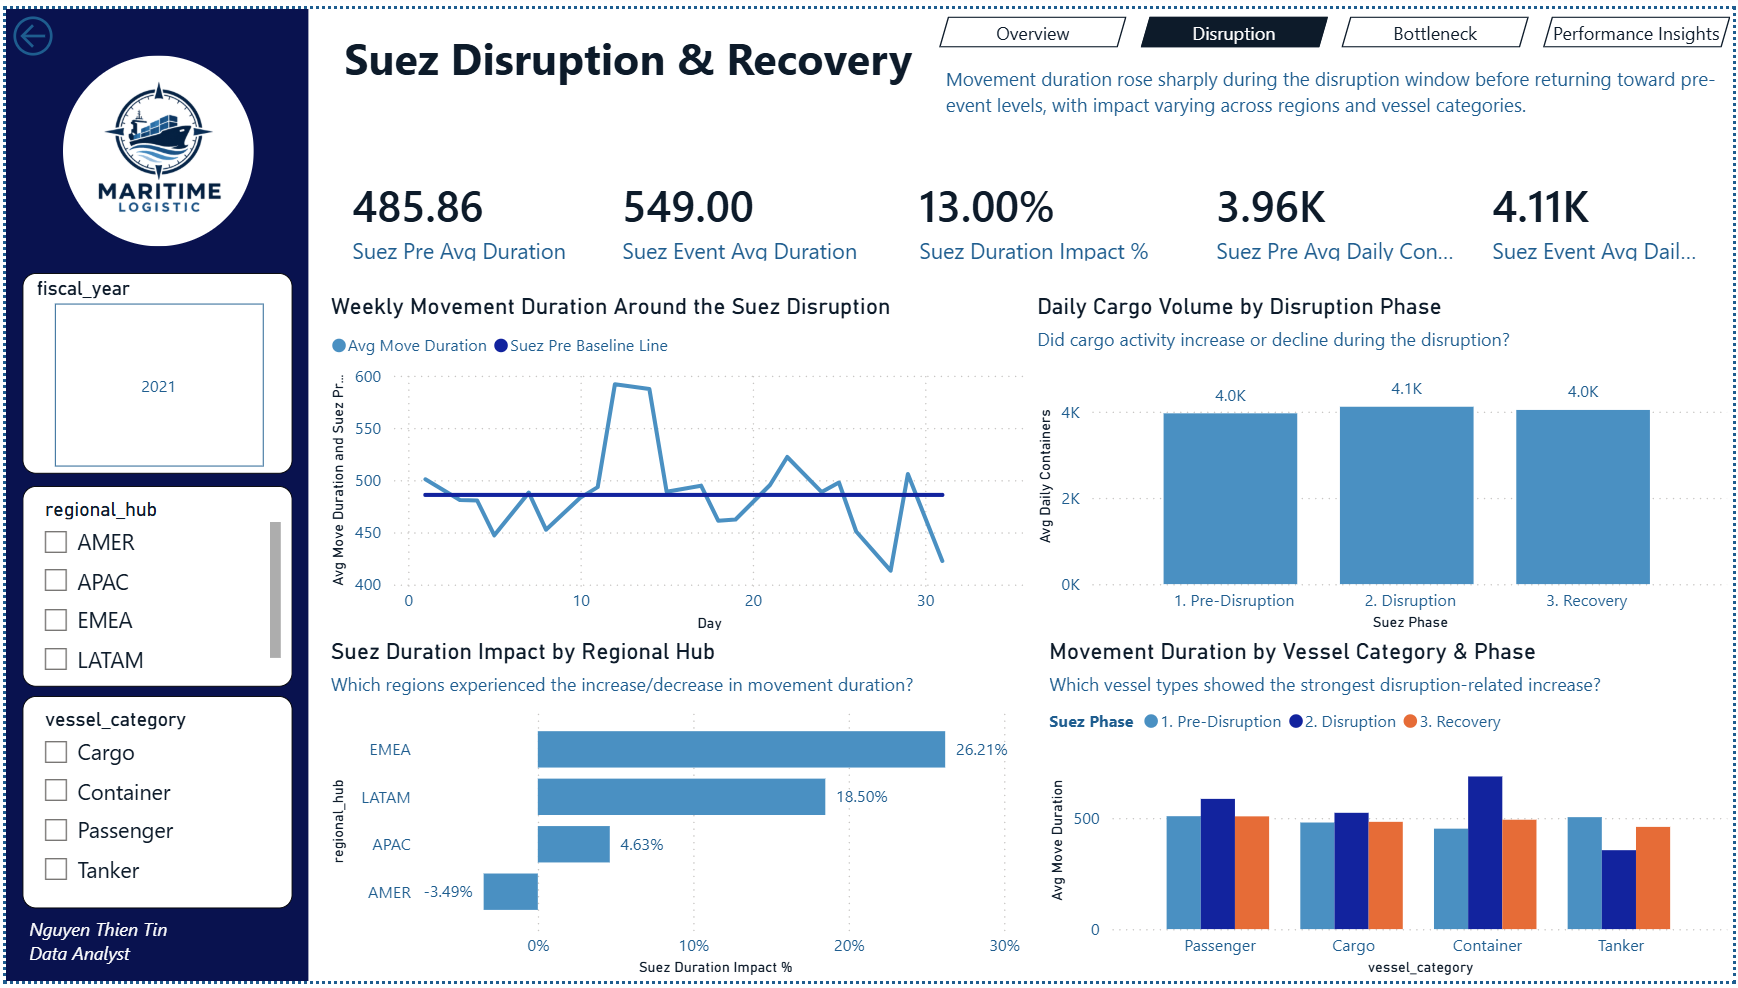

The page's visual inventory and layout, read from the dashboard file:
{"tool":"powerbi","page":{"name":"Disruption","canvas":[1280,720],"ordinal":1},"visuals":[{"type":"shape","title":"BG1","box":[0,0,224.3,720],"z":0},{"type":"cardVisual","fields":{"Data":["_Measures.Suez Duration Impact %"]},"box":[655,115,220,80],"z":1000},{"type":"cardVisual","fields":{"Data":["_Measures.Suez Pre Avg Duration"]},"box":[235,115,200,80],"z":2000},{"type":"cardVisual","fields":{"Data":["_Measures.Suez Event Avg Duration"]},"box":[435,115,220,80],"z":3000},{"type":"cardVisual","fields":{"Data":["_Measures.Suez Pre Avg Daily Containers"]},"box":[875,115,220,80],"z":4000},{"type":"slicer","fields":{"Values":["dim_time.fiscal_year"]},"box":[12.5,195,200,148.8],"z":5000},{"type":"slicer","fields":{"Values":["dim_terminal.regional_hub"]},"box":[12.5,353.8,200,148.8],"z":6000},{"type":"slicer","fields":{"Values":["dim_vessel.vessel_category"]},"box":[12.5,508.8,200,157.5],"z":7000},{"type":"image","box":[42.2,34.4,141.1,141.1],"z":8000},{"type":"textbox","box":[245,8.8,432.5,56.2],"z":9000},{"type":"textbox","box":[12.5,666.2,156.2,53.8],"z":10000},{"type":"textbox","box":[691.2,36.2,588.8,48.8],"z":11000},{"type":"cardVisual","fields":{"Data":["_Measures.Suez Event Avg Daily Containers"]},"box":[1080,115,200,80],"z":12000},{"type":"lineChart","title":"Weekly Movement Duration Around the Suez Disruption","fields":{"Y":["_Measures.Avg Move Duration","_Measures.Suez Pre Baseline Line"],"Category":["dim_time.Week Start.Variation.Date Hierarchy.Day"]},"box":[235,210,523.8,255],"z":13000},{"type":"clusteredColumnChart","title":"Daily Cargo Volume by Disruption Phase","fields":{"Category":["dim_time.Suez Phase"],"Y":["_Measures.Avg Daily Containers"]},"box":[758.8,210,521.2,255],"z":14000},{"type":"actionButton","box":[0,0,100,40],"z":15000},{"type":"clusteredBarChart","title":"Suez Duration Impact by Regional Hub","fields":{"Category":["dim_terminal.regional_hub"],"Y":["_Measures.Suez Duration Impact %"]},"box":[235,465,523.8,255],"z":16000},{"type":"clusteredColumnChart","title":"Movement Duration by Vessel Category & Phase","fields":{"Category":["dim_vessel.vessel_category"],"Series":["dim_time.Suez Phase"],"Y":["_Measures.Avg Move Duration"]},"box":[767.5,465,512.5,255],"z":17000},{"type":"pageNavigator","box":[691.2,5,588.8,23.8],"z":18000}]}

Visuals, with their boxes in screenshot pixels (x1, y1, x2, y2), scaled from the page's 1280x720 canvas onto the 1738x988 screenshot:
"BG1" shape: (0, 0, 305, 987)
cardVisual - _Measures.Suez Duration Impact %: (889, 158, 1188, 268)
cardVisual - _Measures.Suez Pre Avg Duration: (319, 158, 591, 268)
cardVisual - _Measures.Suez Event Avg Duration: (591, 158, 889, 268)
cardVisual - _Measures.Suez Pre Avg Daily Containers: (1188, 158, 1487, 268)
slicer - dim_time.fiscal_year: (17, 268, 289, 472)
slicer - dim_terminal.regional_hub: (17, 485, 289, 690)
slicer - dim_vessel.vessel_category: (17, 698, 289, 914)
image: (57, 47, 249, 241)
textbox: (333, 12, 920, 89)
textbox: (17, 914, 229, 987)
textbox: (939, 50, 1737, 117)
cardVisual - _Measures.Suez Event Avg Daily Containers: (1466, 158, 1737, 268)
"Weekly Movement Duration Around the Suez Disruption" lineChart: (319, 288, 1030, 638)
"Daily Cargo Volume by Disruption Phase" clusteredColumnChart: (1030, 288, 1737, 638)
actionButton: (0, 0, 136, 55)
"Suez Duration Impact by Regional Hub" clusteredBarChart: (319, 638, 1030, 987)
"Movement Duration by Vessel Category & Phase" clusteredColumnChart: (1042, 638, 1737, 987)
pageNavigator: (939, 7, 1737, 40)
